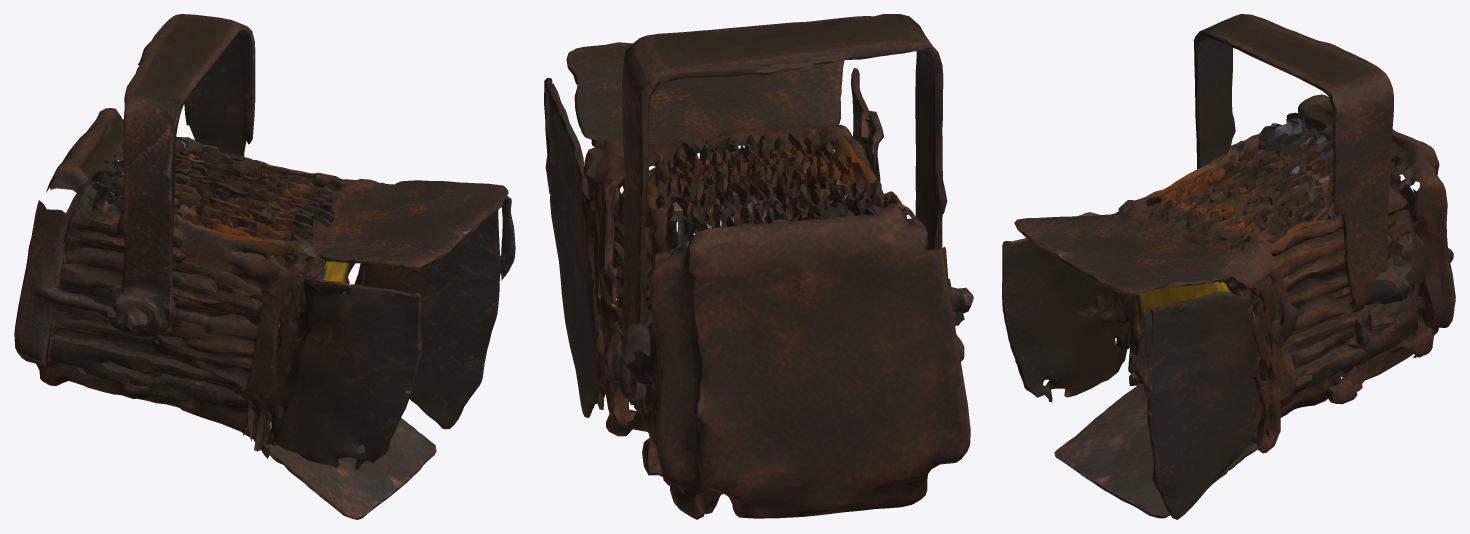
The model's file is Faro.glb.
The picture shows the model from 3 angles, left to right: view 1: azimuth 30°, elevation 25°; view 2: azimuth 150°, elevation 25°; view 3: azimuth 270°, elevation 25°; orthographic projection. The views are drawn at different scales.
Visible parts, largest first — view 1: tmp84yk50y0.ply; view 2: tmp84yk50y0.ply; view 3: tmp84yk50y0.ply.
Boxes of the visible parts, x1,y1,x2,y2 form: tmp84yk50y0.ply: (14, 14, 515, 519); tmp84yk50y0.ply: (544, 14, 973, 519); tmp84yk50y0.ply: (1002, 14, 1455, 519).
Size of the model in its own units: 1.96 by 1.77 by 1.92.
Materials: 1 (1 with a texture image).
